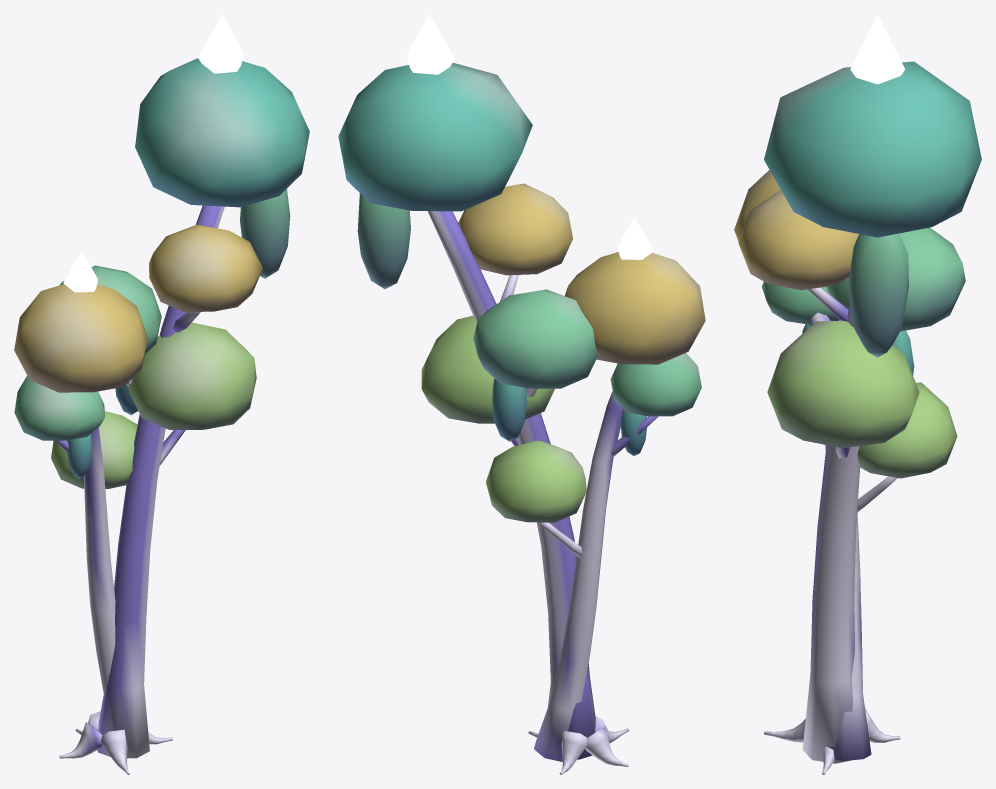
File: verdant_tree_glassbirch_c.glb
3 views of the same model, side by side, from view 1: azimuth 30°, elevation 25°; view 2: azimuth 150°, elevation 25°; view 3: azimuth 270°, elevation 25° (orthographic). The views are drawn at different scales.
Visible parts, largest first — view 1: verdant_tree_glassbirch_c; view 2: verdant_tree_glassbirch_c; view 3: verdant_tree_glassbirch_c.
Part boxes in pixels (x1,y1,x2,y2): verdant_tree_glassbirch_c: (14,14,309,774); verdant_tree_glassbirch_c: (338,14,705,774); verdant_tree_glassbirch_c: (734,14,981,774).
Size of the model in its own units: 5.31 by 11.68 by 3.25.
